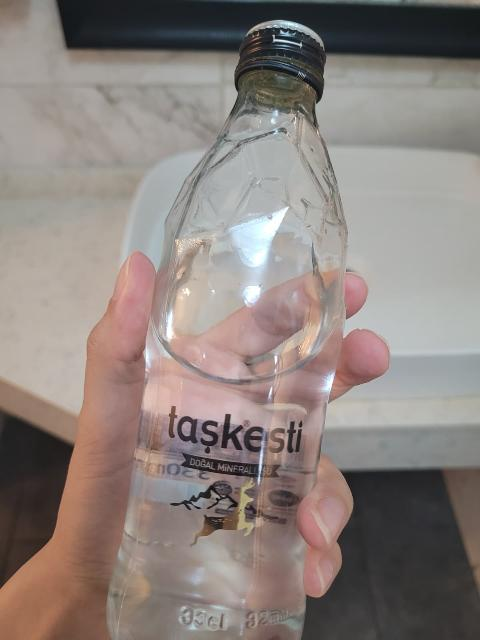Cam: (138, 118, 351, 635)
Metal: (230, 11, 330, 101)
